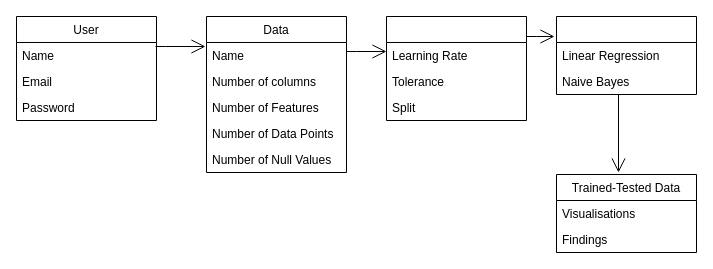
The diagram is 713 pixels wide and 269 high, and some of its shapes have lost their labels. The shapes that lost their labels are listed below. From the top down, each one's box as (x1, y1, x2, y2) in pixels, then its label:
(386, 16, 526, 120): Hyperparameters
(556, 16, 696, 94): Model
